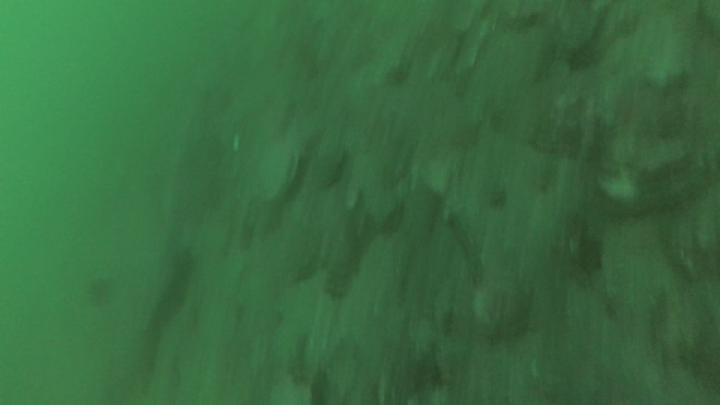scallop: (252, 138, 305, 207)
